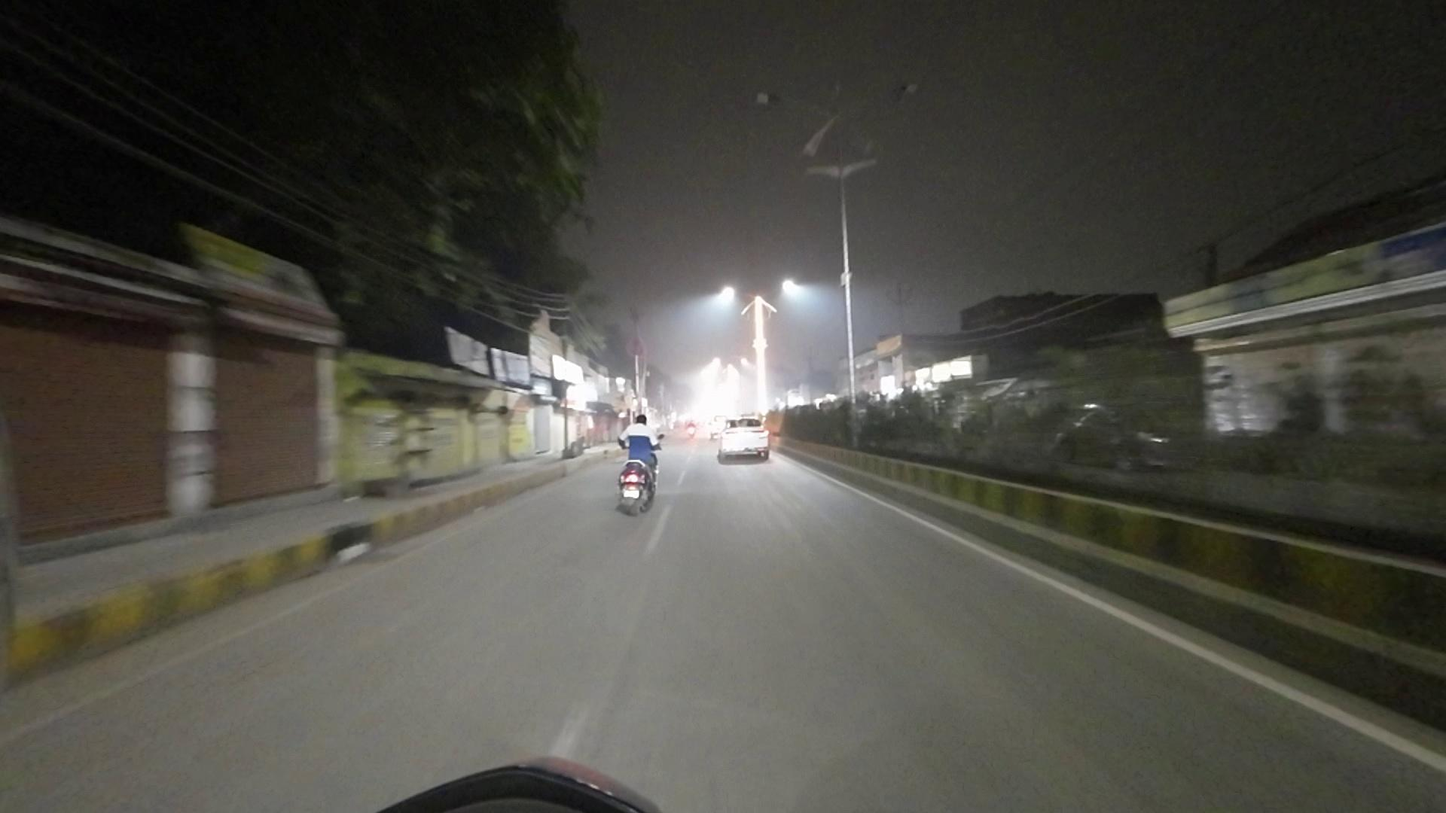streetlight: (753, 85, 828, 122), (859, 76, 927, 109)
